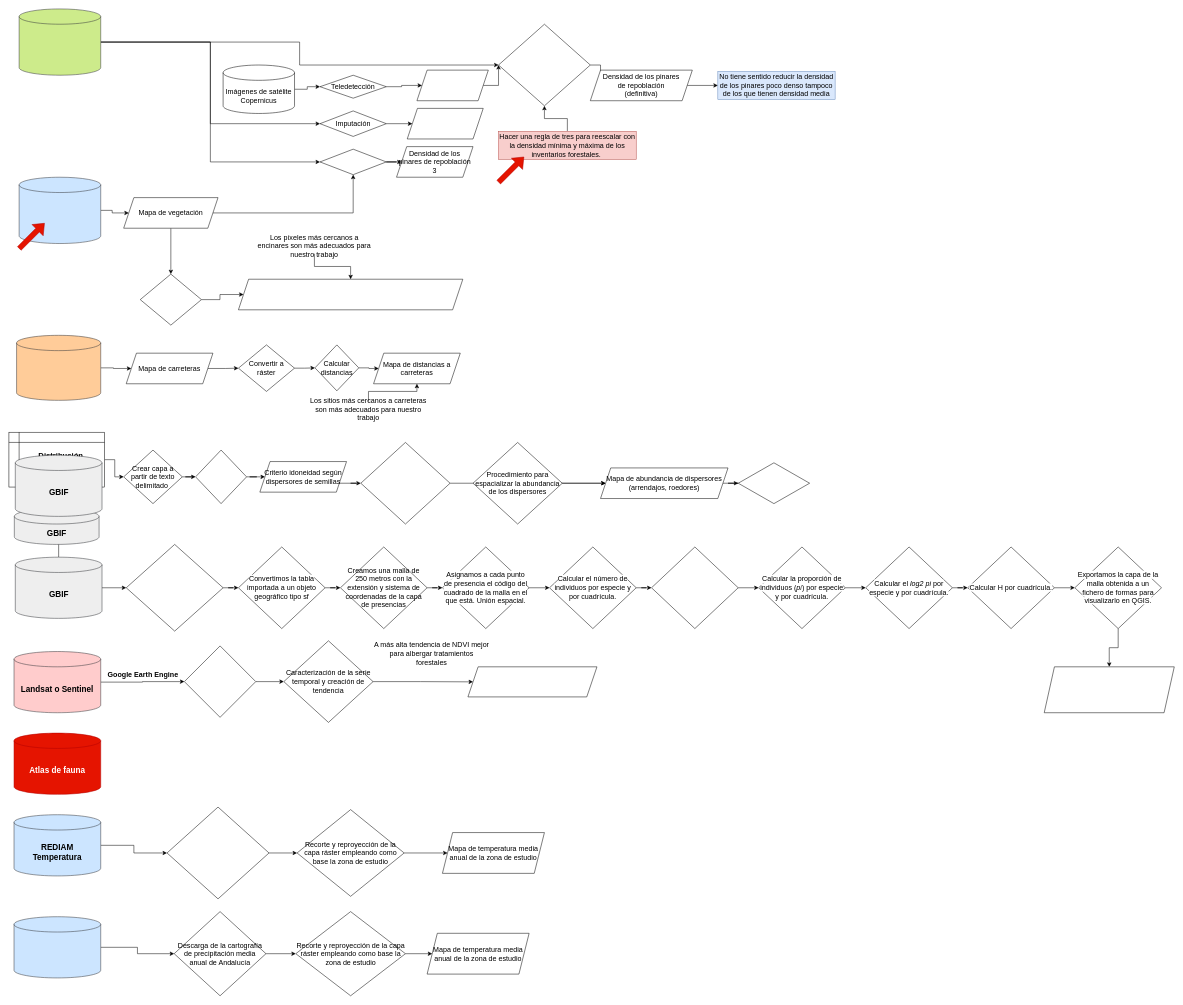
Image size: 1183x1005. Some labels were removed from this diagram. The centre of each missing label's shape, as x and y in pixels:
Análisis de proximidad: the point at 170,299
Buffer 1 km (MITECO, 2009): the point at 221,477
Calcular el número total de individuos por cuadrícula.: the point at 694,587
Cambio de unidades (% a pies/ha): the point at 544,65
CNIG Redes de transporte: the point at 58,367
Cálculo de distancias: the point at 774,483
Densidad de los pinares de repoblación 1: the point at 452,85
Densidad de los pinares de repoblación 2: the point at 445,123
Descarga de datos. Creación de NDVI: the point at 220,681
Descarga de la cartografía de temperatura media anual de Andalucía: the point at 218,853
Importamos el archivo csv de GBIF con sus atributos geográficos: the point at 174,587
Interpolación: the point at 353,162
Inventarios forestales: the point at 60,41
Mapa con la representación del índice de riqueza (Shannon): the point at 1109,689
Mapa de proximidad (distancia de cada píxel con encinas más cercano): the point at 350,294
Procedimiento para espacializar la distribución de los dispersores: the point at 405,483
Rediam kfjsdhglsdkfhgkld: the point at 60,210
REDIAM Precipitación: the point at 57,947
Tendencia de la productividad primaria: the point at 532,681
